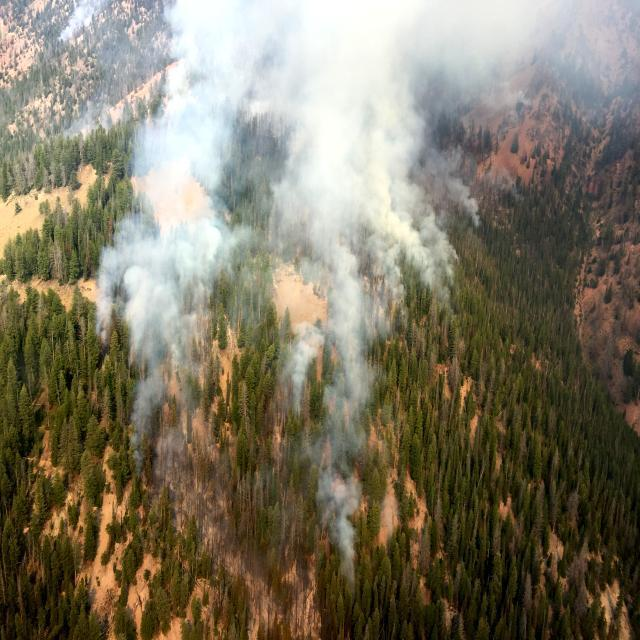Smoke: (59, 0, 556, 243), (88, 178, 242, 484), (274, 222, 398, 561)
